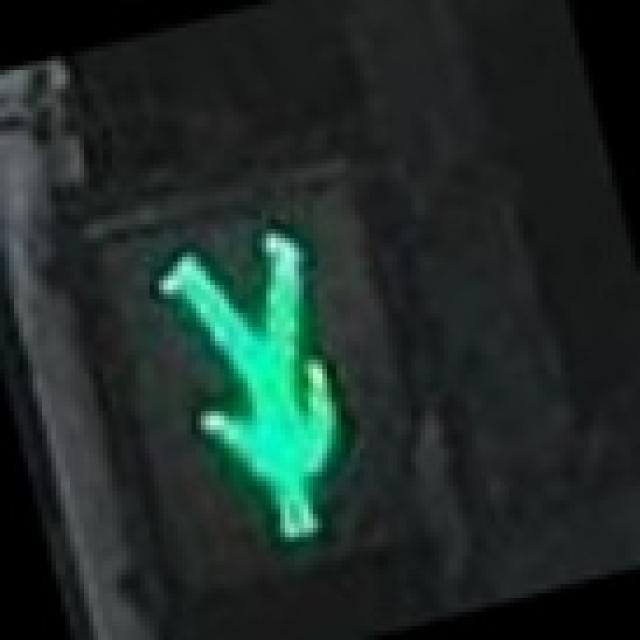geen-crossing: (84, 65, 547, 570)
